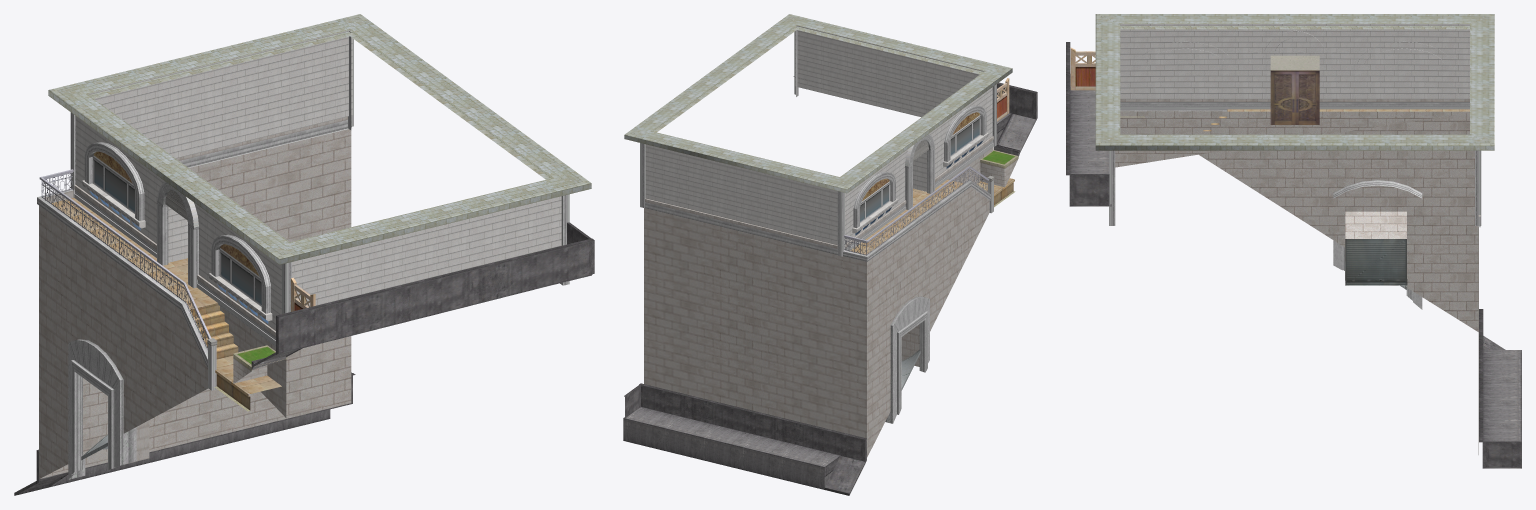
Rendered from BuilB_Base_35R.fbx.
3 renders of one model, left to right at view 1: azimuth 30°, elevation 25°; view 2: azimuth 150°, elevation 25°; view 3: azimuth 270°, elevation 25°, orthographic. The views are drawn at different scales.
Parts seen in each view (by area): view 1: ct2_01_m1_yc1_builbaseB35R_18; view 2: ct2_01_m1_yc1_builbaseB35R_18; view 3: ct2_01_m1_yc1_builbaseB35R_18.
Part boxes in pixels (box(x1,y1,x2,y2)): ct2_01_m1_yc1_builbaseB35R_18: box(14, 14, 594, 495); ct2_01_m1_yc1_builbaseB35R_18: box(623, 14, 1037, 495); ct2_01_m1_yc1_builbaseB35R_18: box(1066, 14, 1521, 468).
Bounding box in the file's own units: 2014 × 2362 × 2734.
